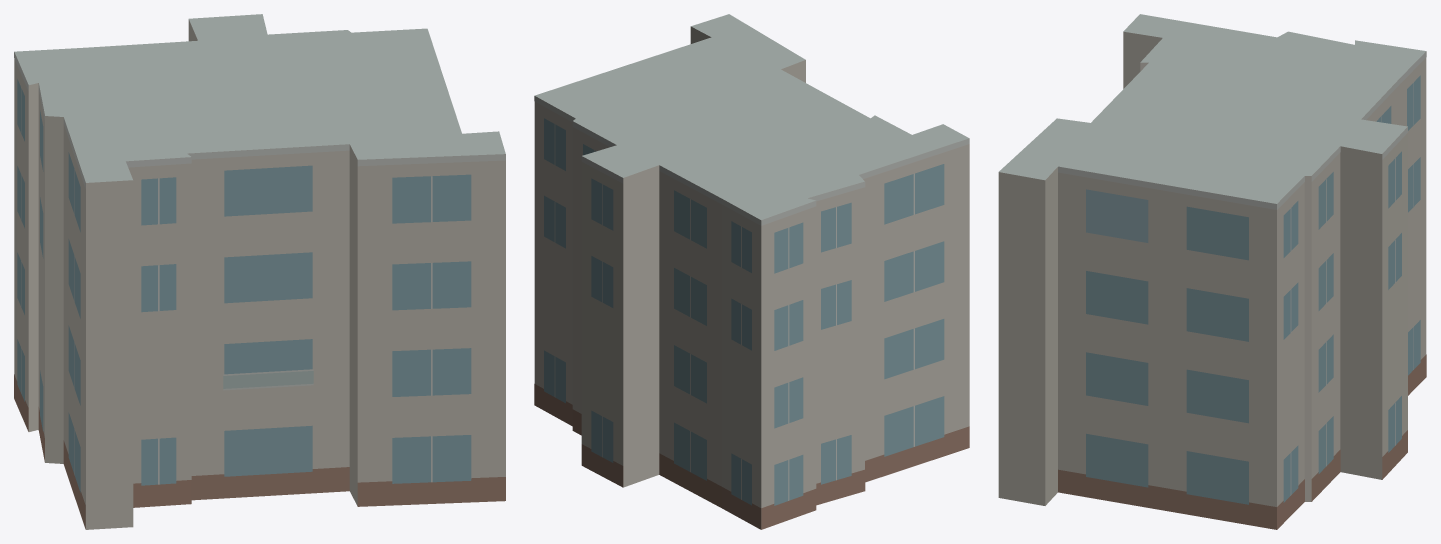
The model's file is survey-upis-32753072.glb.
3 views of the same model, side by side, from view 1: azimuth 30°, elevation 25°; view 2: azimuth 150°, elevation 25°; view 3: azimuth 270°, elevation 25° (orthographic). The views are drawn at different scales.
Parts seen in each view (by area): view 1: survey-upis-32753072.tmp; view 2: survey-upis-32753072.tmp; view 3: survey-upis-32753072.tmp.
Boxes of the visible parts, bbox=[...] form: survey-upis-32753072.tmp: bbox=[14, 14, 505, 529]; survey-upis-32753072.tmp: bbox=[534, 14, 969, 529]; survey-upis-32753072.tmp: bbox=[998, 14, 1426, 529].
Bounding box in the file's own units: 16.52 × 13.2 × 15.72.
